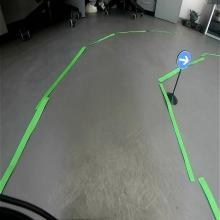right: (176, 50, 192, 70)
